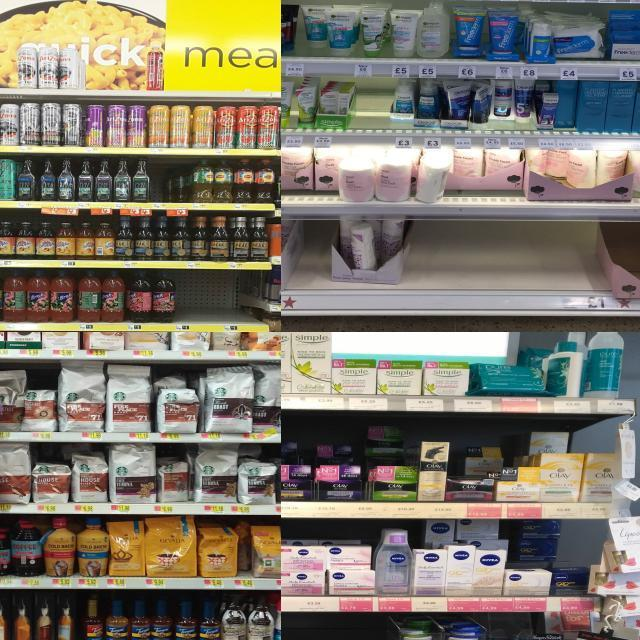empty: (418, 222, 594, 310), (216, 271, 255, 332), (176, 272, 212, 332), (358, 80, 388, 146), (360, 614, 391, 640), (150, 160, 166, 210), (329, 615, 357, 640)
